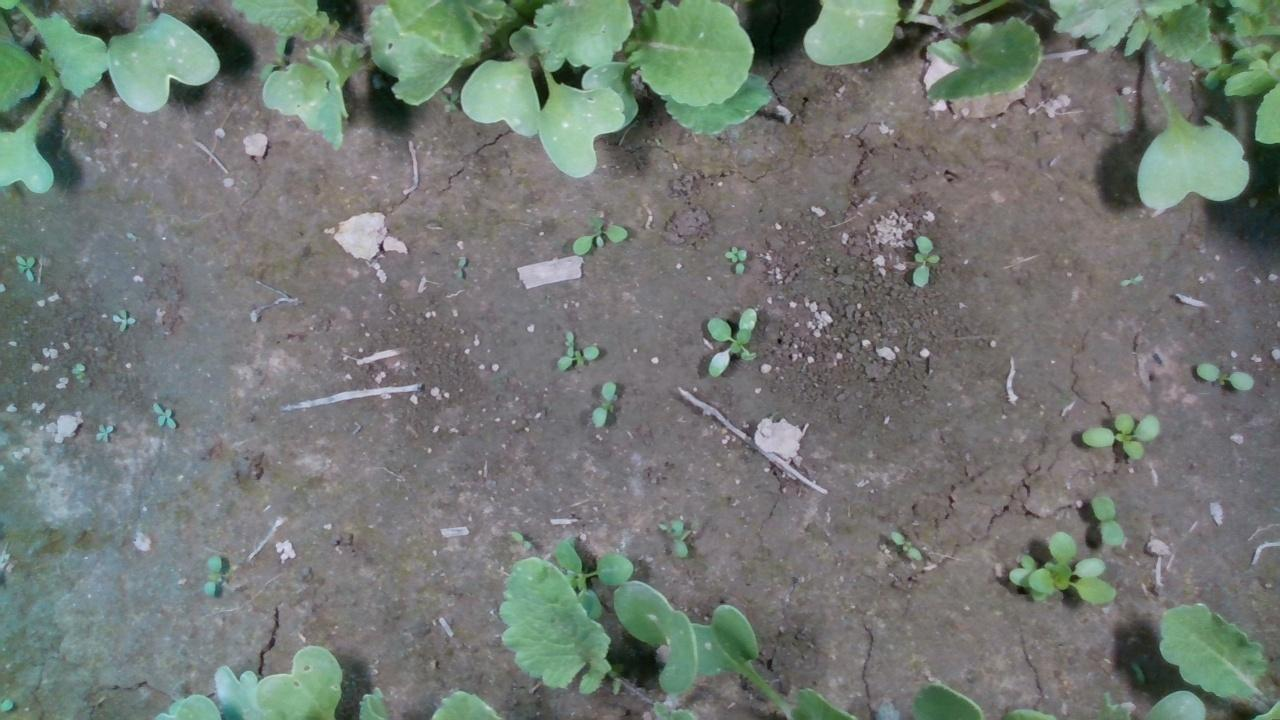weed: (1078, 411, 1159, 461), (571, 214, 628, 256), (1089, 491, 1127, 549), (1191, 359, 1255, 390), (909, 234, 939, 287), (587, 377, 615, 427), (888, 528, 924, 562), (148, 399, 179, 431), (201, 552, 223, 597), (107, 305, 137, 332), (11, 252, 37, 280), (93, 422, 115, 445)
